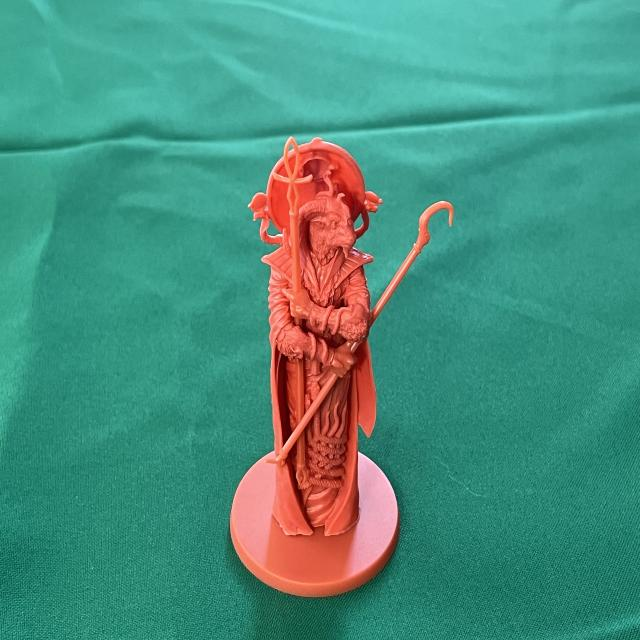amon: (224, 129, 455, 602)
